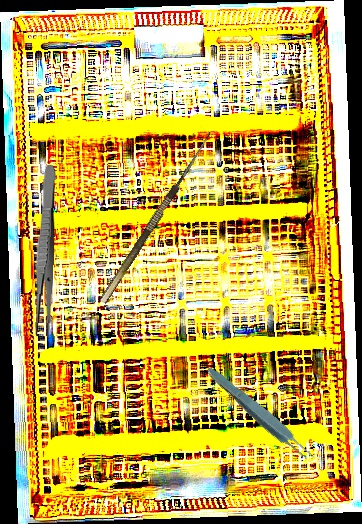Dressing Forceps: (33, 164, 57, 338)
Hook Surgical: (89, 125, 216, 304)
Tissue Forceps: (201, 361, 320, 469)
